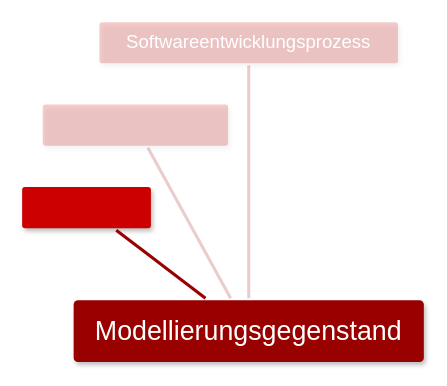
This 447x386 diagram has some shape labels left out. Each missing label, with the centre of its shape:
"Realwelt" belongs at (x=87, y=208).
"Softwareprodukt" belongs at (x=136, y=126).
